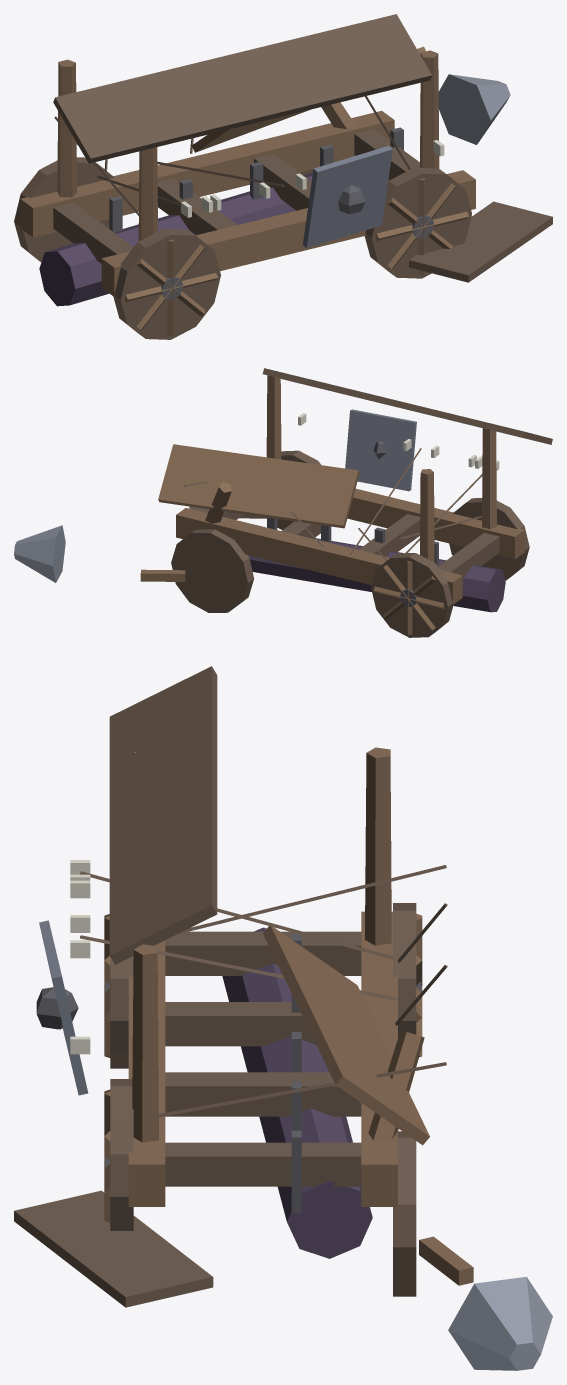
Rendered from siege_ram.glb.
The picture shows the model from 3 angles, top to bottom: view 1: azimuth 30°, elevation 25°; view 2: azimuth 150°, elevation 25°; view 3: azimuth 270°, elevation 25°; orthographic projection. The views are drawn at different scales.
Parts seen in each view (by area): view 1: siege_ram; view 2: siege_ram; view 3: siege_ram.
Boxes of the visible parts, box(x1,y1,x2,y2) form: siege_ram: box(14, 14, 552, 339); siege_ram: box(14, 368, 552, 637); siege_ram: box(14, 666, 552, 1370).
Bounding box in the file's own units: 5.57 × 2.55 × 3.24.
